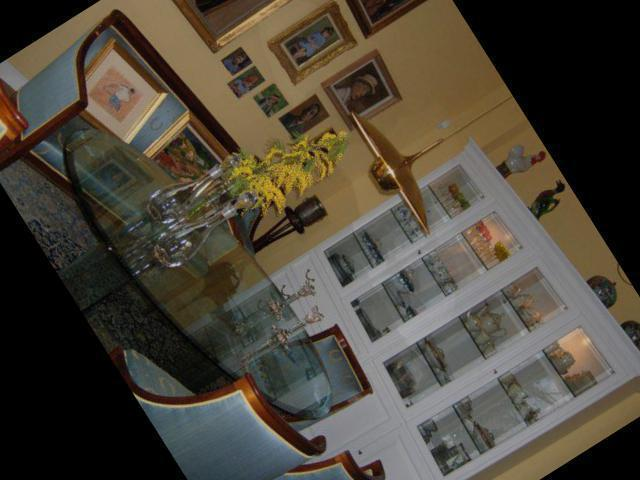Armario: (187, 137, 621, 480)
